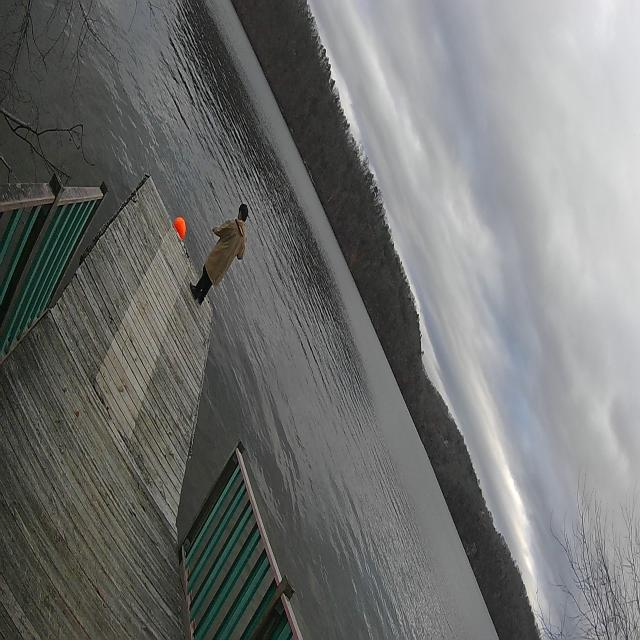Buoy: (172, 214, 188, 240)
